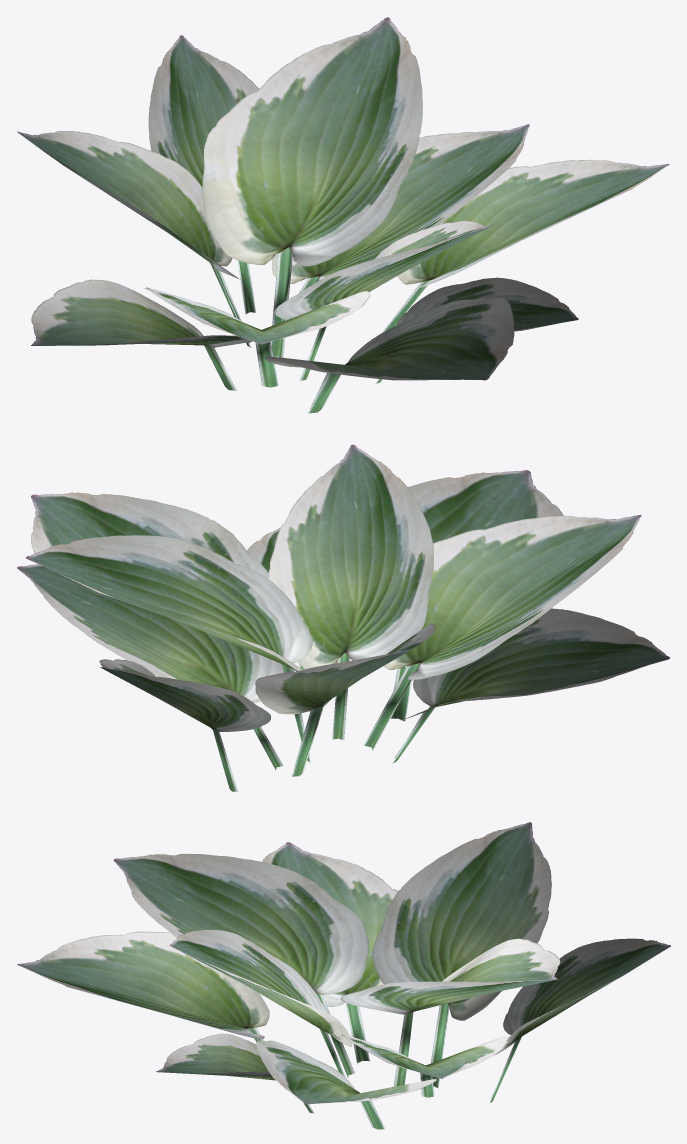
The model's file is plant_small_wg_04L.fbx.
3 views of the same model, one above another, from view 1: azimuth 30°, elevation 25°; view 2: azimuth 150°, elevation 25°; view 3: azimuth 270°, elevation 25° (orthographic). The views are drawn at different scales.
Parts seen in each view (by area): view 1: plant_small_wg_04L; view 2: plant_small_wg_04L; view 3: plant_small_wg_04L.
Boxes of the visible parts, box(x1,y1,x2,y2) form: plant_small_wg_04L: box(17, 17, 669, 413); plant_small_wg_04L: box(17, 444, 669, 791); plant_small_wg_04L: box(17, 822, 670, 1129).
Bounding box in the file's own units: 89.54 × 29.63 × 89.31.
